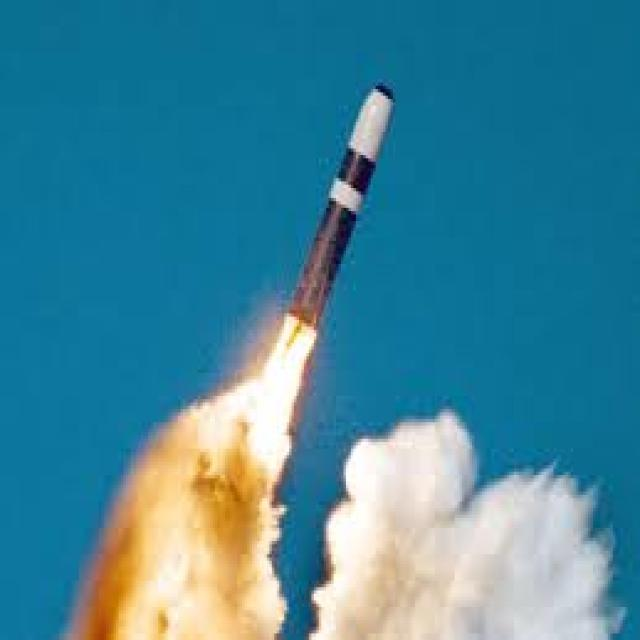missile: (279, 80, 404, 337)
